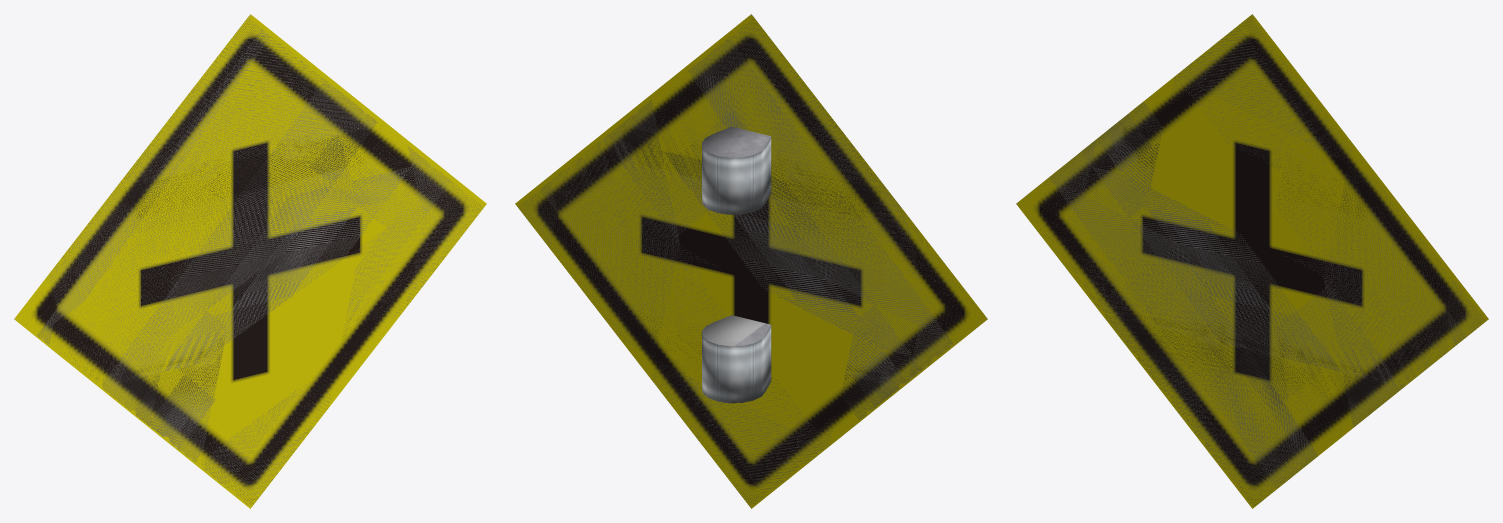
File: Parts_Plate_Rhombus450.fbx
The picture shows the model from 3 angles, left to right: view 1: azimuth 30°, elevation 25°; view 2: azimuth 150°, elevation 25°; view 3: azimuth 330°, elevation 25°; orthographic projection.
Visible parts, largest first — view 1: 951_plate_rhombus450; view 2: 951_plate_rhombus450; view 3: 951_plate_rhombus450.
Part boxes in pixels (x1,y1,x2,y2): 951_plate_rhombus450: [14, 14, 486, 508]; 951_plate_rhombus450: [515, 14, 987, 508]; 951_plate_rhombus450: [1016, 14, 1488, 508].
Size of the model in its own units: 0.6364 by 0.6364 by 0.0788.
